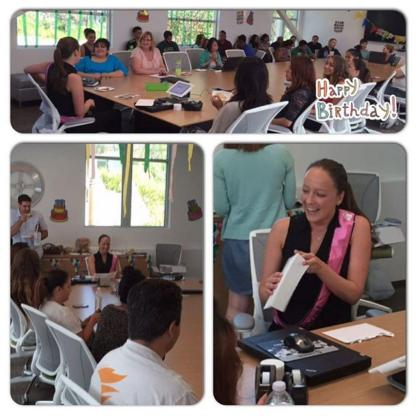board: (236, 324, 372, 386), (266, 382, 293, 406), (209, 56, 242, 72), (367, 50, 386, 62), (94, 287, 102, 312), (72, 276, 95, 284), (176, 56, 183, 77)
